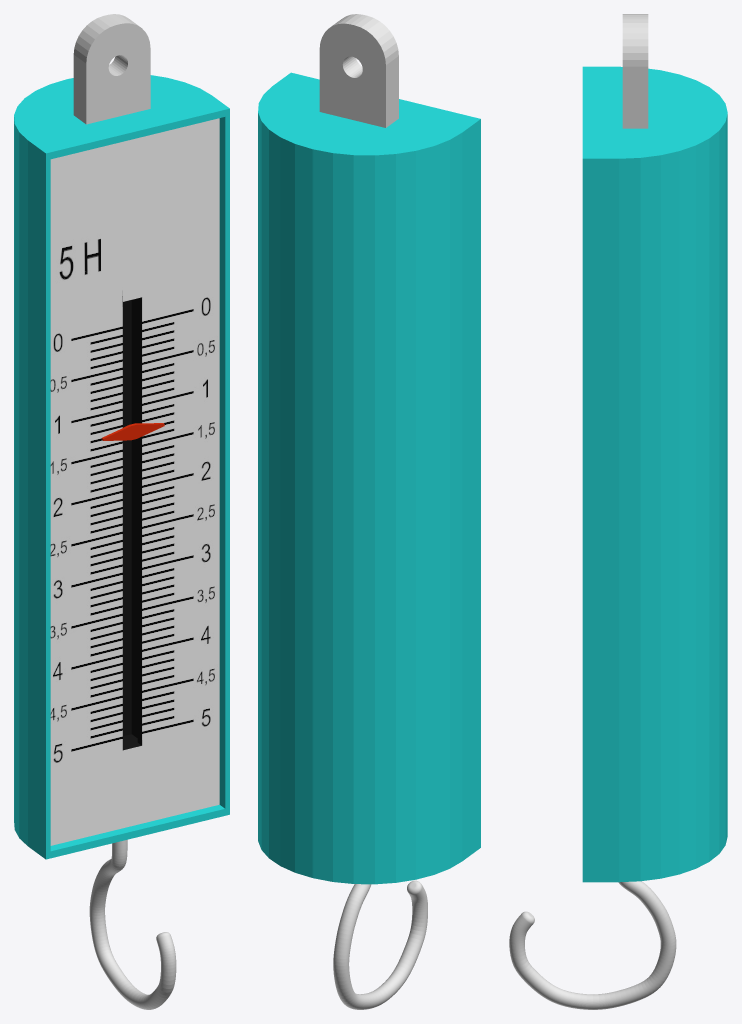
The model's file is dinamometr5N.fbx.
3 renders of one model, left to right at view 1: azimuth 30°, elevation 25°; view 2: azimuth 150°, elevation 25°; view 3: azimuth 270°, elevation 25°, orthographic. The views are drawn at different scales.
Visible parts, largest first — view 1: korpus, holder, hook, Plane.001; view 2: korpus, holder, hook; view 3: korpus, hook, holder.
Part boxes in pixels (x1,y1,x2,y2): korpus: (14, 75, 229, 859); holder: (73, 14, 150, 124); hook: (89, 839, 176, 1009); Plane.001: (101, 423, 164, 440); korpus: (258, 72, 480, 884); holder: (319, 14, 398, 127); hook: (333, 880, 427, 1009); korpus: (582, 66, 727, 882); hook: (509, 881, 676, 1009); holder: (622, 14, 648, 128).
Bounding box in the file's own units: 600 × 3013 × 602.
Materials: 5 (1 with a texture image).
